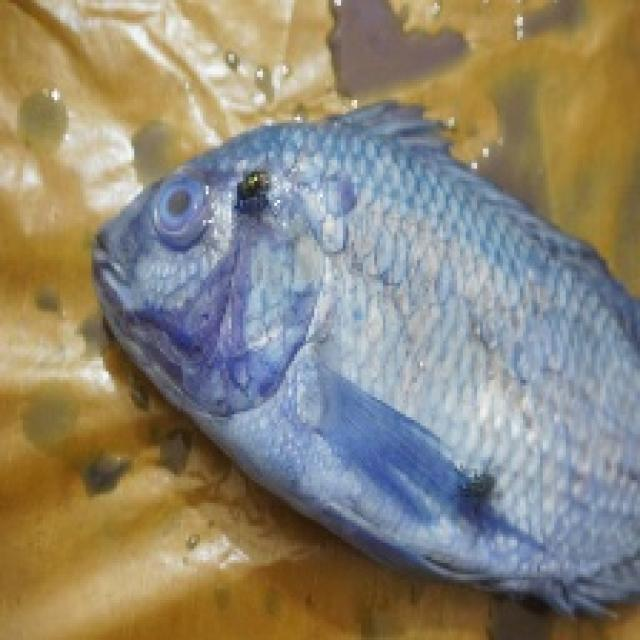Non-Fresh: (85, 85, 640, 570), (154, 170, 232, 254)
